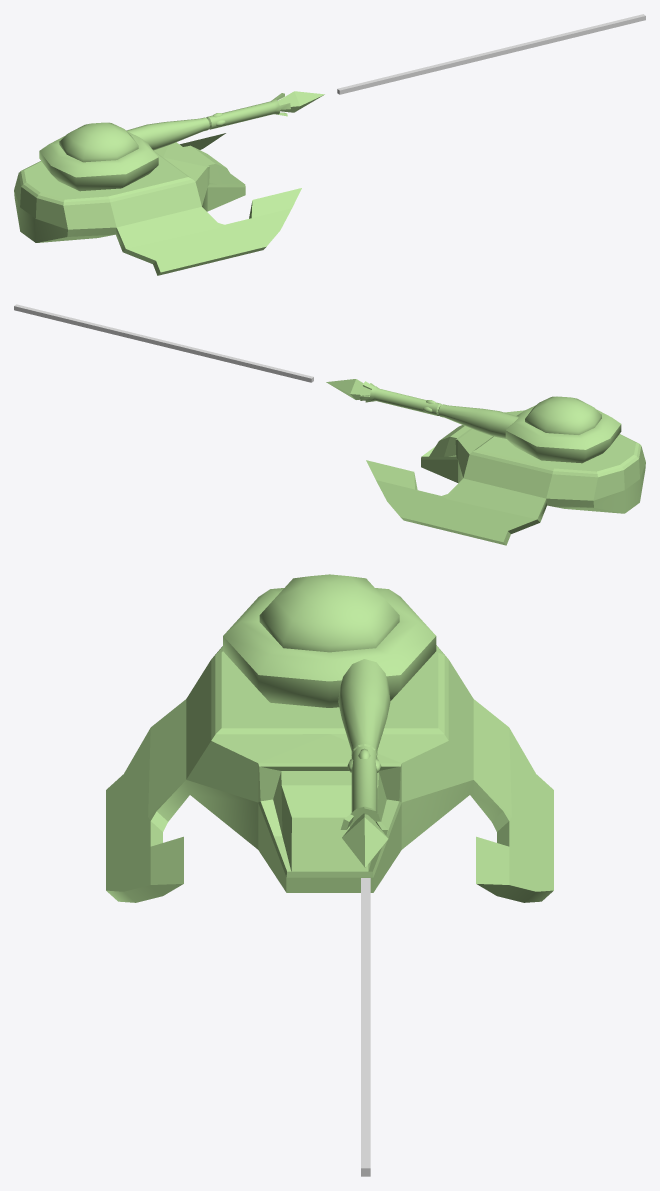
The model's file is lasertank.FBX.
3 views of the same model, one above another, from view 1: azimuth 30°, elevation 25°; view 2: azimuth 150°, elevation 25°; view 3: azimuth 270°, elevation 25° (orthographic). The views are drawn at different scales.
Visible parts, largest first — view 1: Plane001, Object001, Box001; view 2: Plane001, Object001, Box001; view 3: Plane001, Object001, Box001.
Boxes of the visible parts, box(x1,y1,x2,y2) form: Plane001: box(14, 133, 301, 275); Object001: box(39, 91, 324, 191); Box001: box(337, 14, 645, 94); Plane001: box(366, 410, 645, 545); Object001: box(326, 379, 621, 463); Box001: box(14, 304, 313, 382); Plane001: box(106, 645, 553, 902); Object001: box(223, 574, 436, 867); Box001: box(361, 878, 370, 1176).
Bounding box in the file's own units: 555 × 93.27 × 177.
